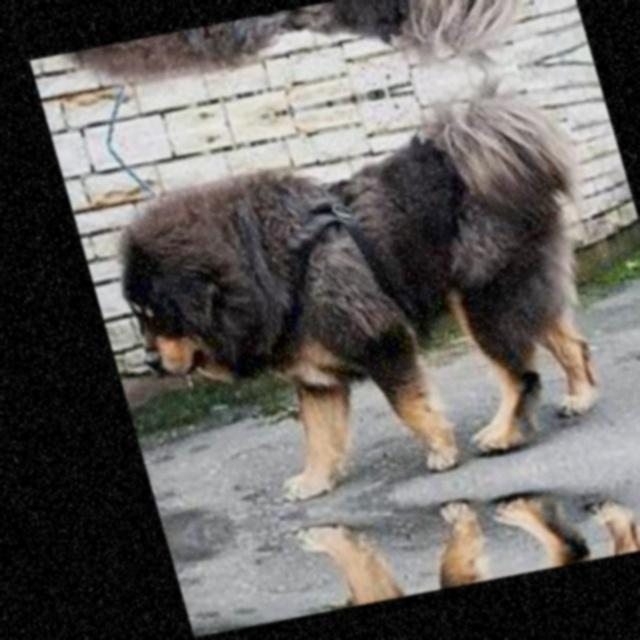dog: (61, 74, 636, 518), (175, 471, 640, 637), (32, 0, 530, 146)
